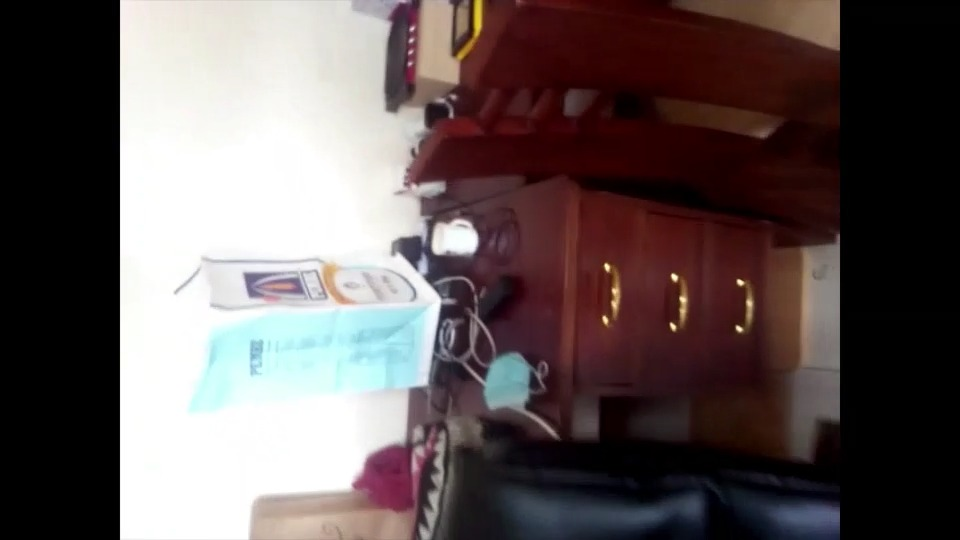wheat_flour_blue_label: (190, 261, 437, 391)
